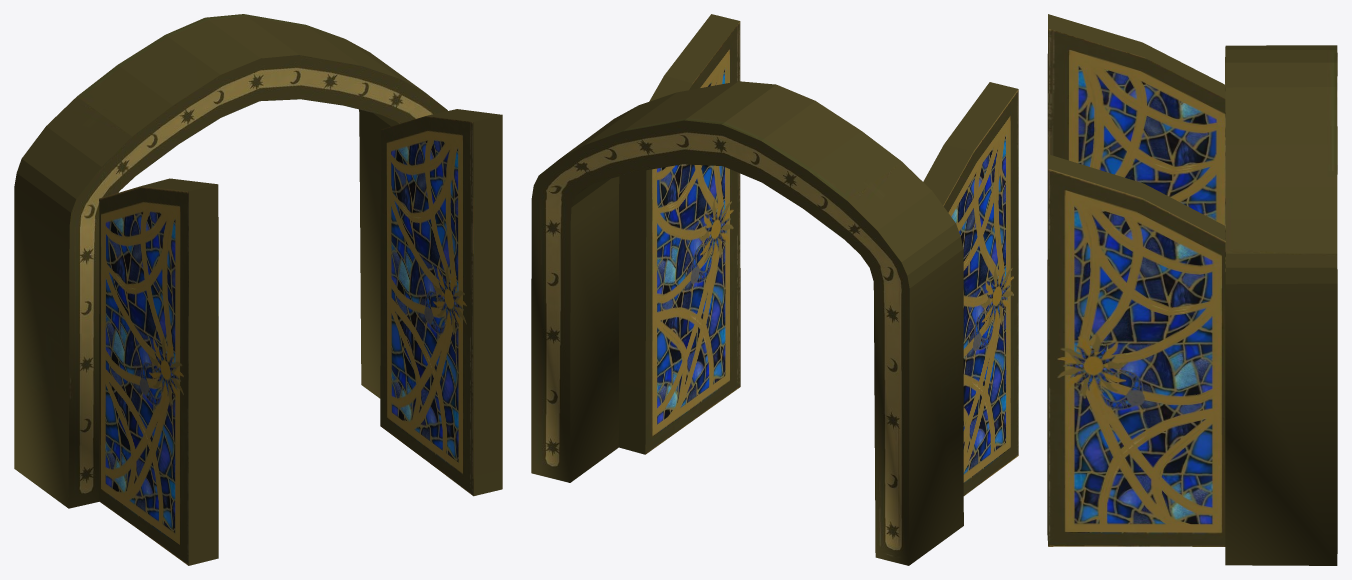
Rendered from doorOpenCompressed.glb.
3 renders of one model, left to right at view 1: azimuth 30°, elevation 25°; view 2: azimuth 150°, elevation 25°; view 3: azimuth 270°, elevation 25°, orthographic. The views are drawn at different scales.
Visible parts, largest first — view 1: doorLP.002; view 2: doorLP.002; view 3: doorLP.002.
Part boxes in pixels (left/top/right/bottom): doorLP.002: left=14, top=14, right=502, bottom=565; doorLP.002: left=531, top=14, right=1018, bottom=565; doorLP.002: left=1047, top=14, right=1337, bottom=565.
Bounding box in the file's own units: 2 × 2 × 1.29.
Materials: 2 (2 with a texture image).
